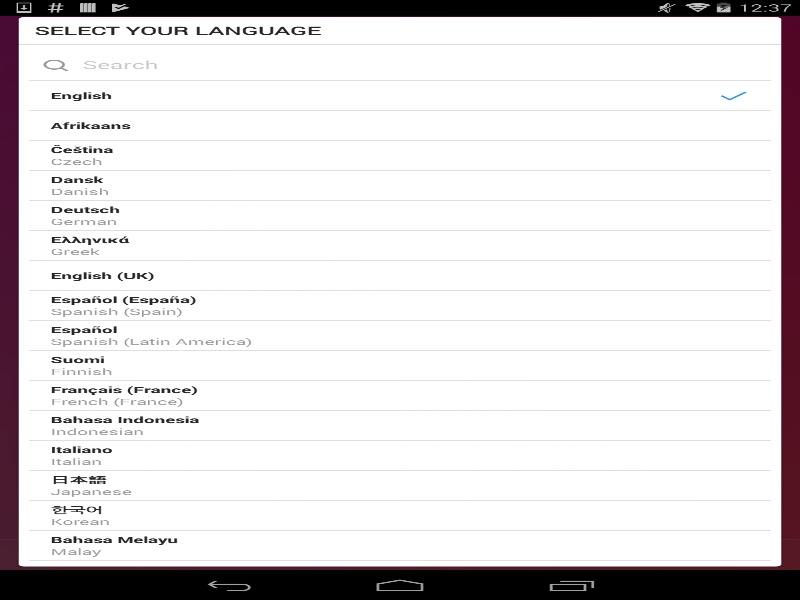Input: (29, 50, 754, 80)
